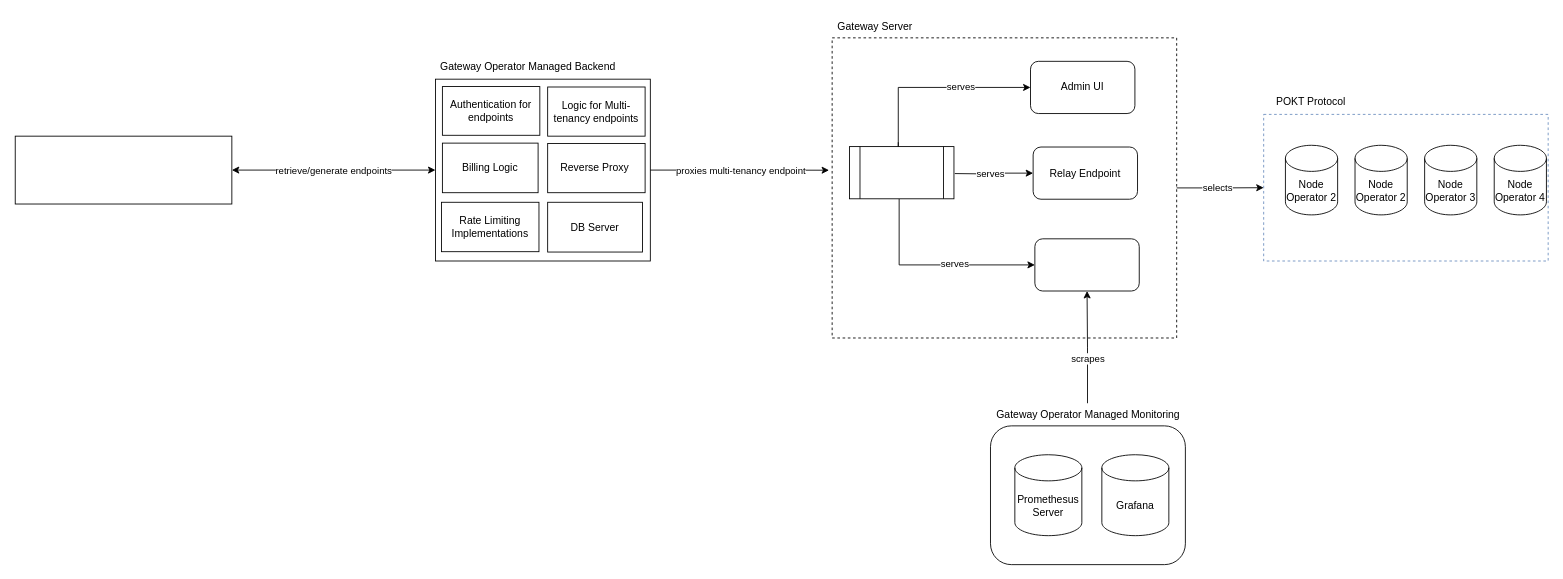
This 1563x579 diagram has some shape labels left out. The box of each missing label's shape, as (x1, y1, x2, y2) in pixels:
FastHTTP Server: (849, 146, 954, 199)
Gateway Operator Managed FE: (14, 135, 232, 204)
Metrics Endpoint: (1034, 238, 1139, 291)
